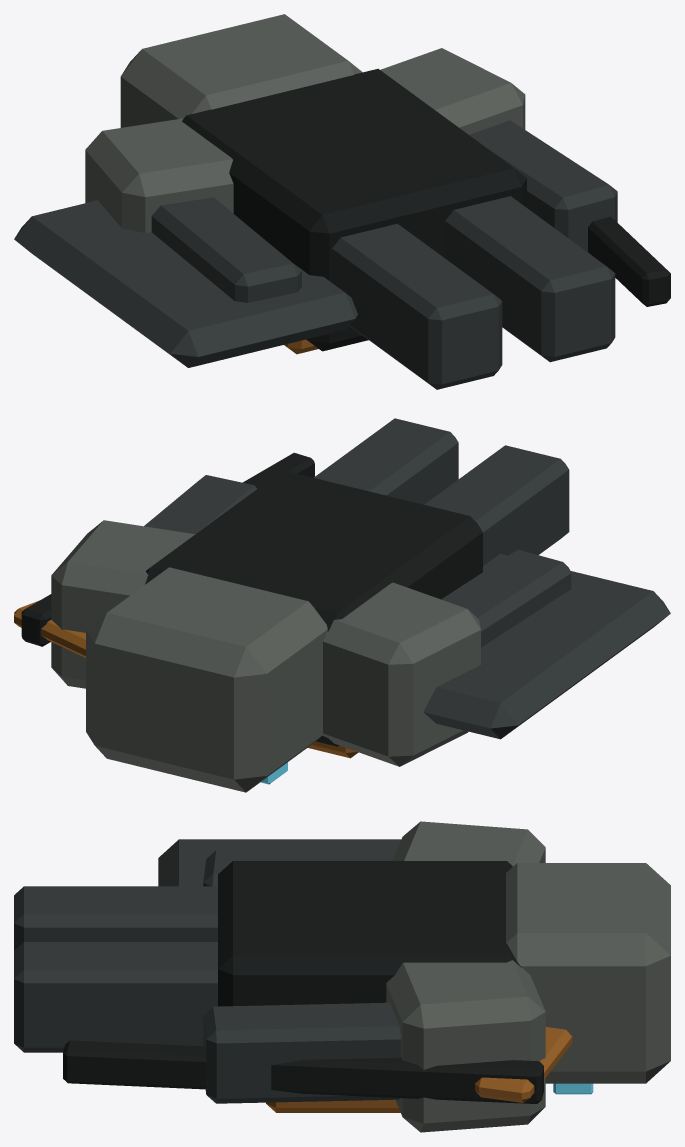
Rendered from BelforgeSentinel.glb.
3 renders of one model, top to bottom at view 1: azimuth 30°, elevation 25°; view 2: azimuth 150°, elevation 25°; view 3: azimuth 270°, elevation 25°, orthographic. The views are drawn at different scales.
Parts seen in each view (by area): view 1: Body, LeftShield, LeftLeg, RightLeg, Helm, PauldronL, LeftArm, RightArm, PauldronR, RightHalberd; view 2: Helm, Body, PauldronL, LeftShield, LeftLeg, PauldronR, RightLeg, LeftArm, RightArm, RightHalberd, HalberdHead; view 3: Body, Helm, RightLeg, PauldronR, RightHalberd, RightArm, LeftLeg, PauldronL, LeftShield, HalberdHead, LeftArm, Cuirass (+1 smaller).
Boxes of the visible parts, x1,y1,x2,y2 form: Body: (182,68,526,351); LeftShield: (14,200,357,367); LeftLeg: (332,223,502,389); RightLeg: (445,196,615,362); Helm: (120,14,362,127); PauldronL: (85,118,233,232); LeftArm: (151,197,301,302); RightArm: (469,120,617,254); PauldronR: (380,48,525,134); RightHalberd: (588,216,670,306); Helm: (86,567,327,792); Body: (145,470,482,746); PauldronL: (322,582,480,766); LeftShield: (423,553,670,739); LeftLeg: (424,445,569,565); PauldronR: (51,520,194,688); RightLeg: (313,418,458,504); LeftArm: (441,549,571,647); RightArm: (144,475,256,534); RightHalberd: (21,452,314,646); HalberdHead: (14,600,85,657); Body: (218,861,521,1006); Helm: (506,863,670,1083); RightLeg: (14,942,217,1052); PauldronR: (386,960,545,1132); RightHalberd: (63,1040,543,1103); RightArm: (203,1002,401,1103); LeftLeg: (14,886,217,950); PauldronL: (392,821,545,866); LeftShield: (158,839,401,886); HalberdHead: (475,1027,572,1102); LeftArm: (203,850,394,886); Cuirass: (266,1099,400,1112).
Size of the model in its own units: 7.04 by 2.43 by 7.91.
1 material, 1 textured.
